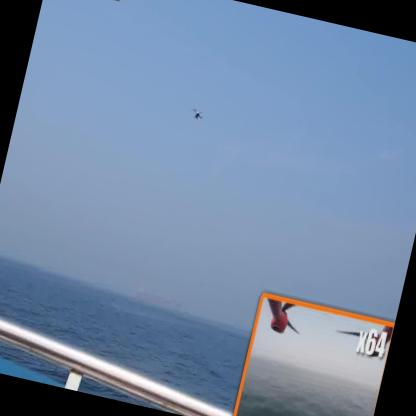drone: (186, 99, 211, 129)
